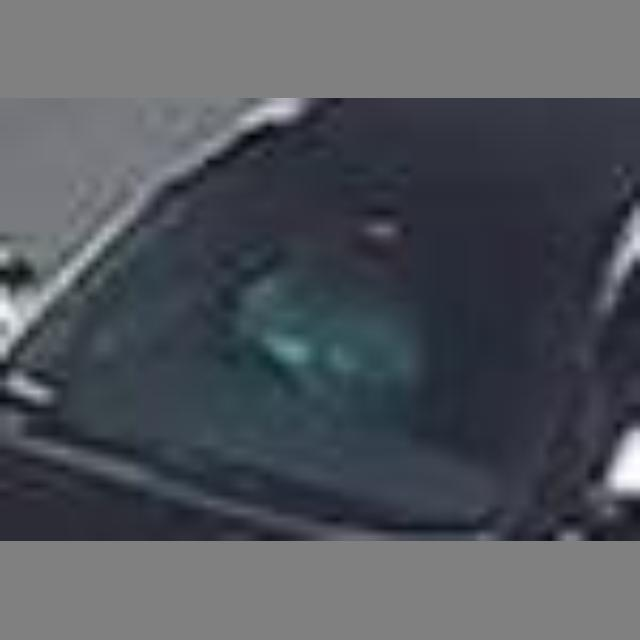tidak-pakai: (239, 200, 435, 431)
